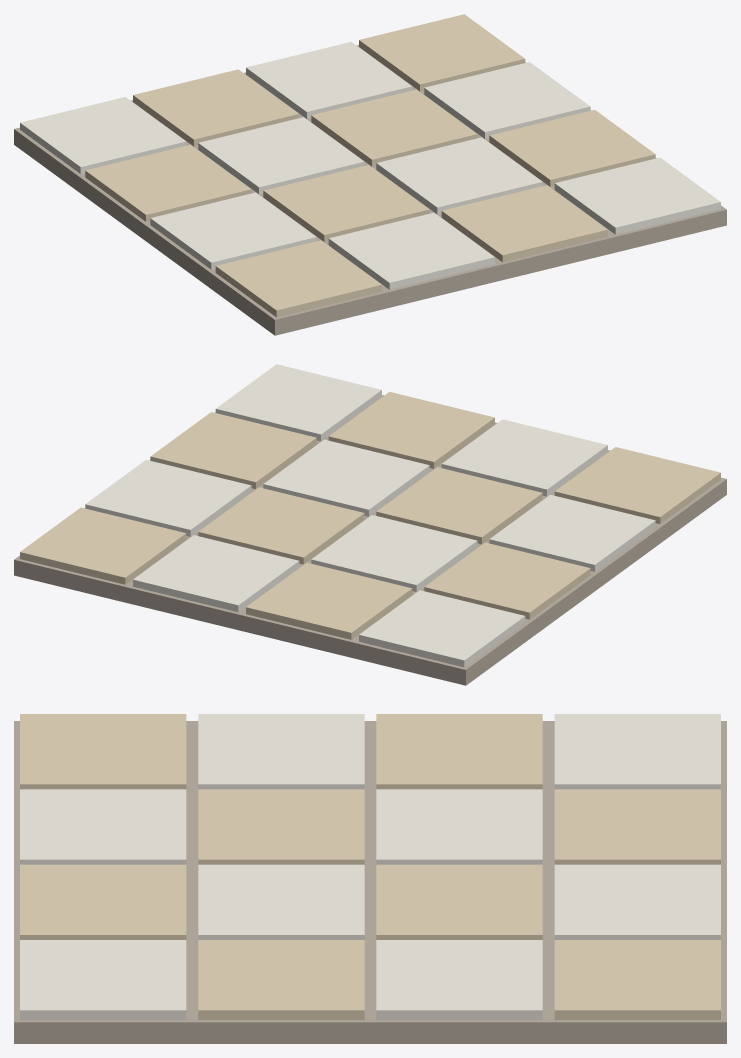
Rendered from courtyard-paving-m-d4922e1f.glb.
3 views of the same model, one above another, from view 1: azimuth 30°, elevation 25°; view 2: azimuth 150°, elevation 25°; view 3: azimuth 270°, elevation 25° (orthographic). The views are drawn at different scales.
Parts seen in each view (by area): view 1: courtyard-paving-module; view 2: courtyard-paving-module; view 3: courtyard-paving-module.
Part boxes in pixels (box(x1,y1,x2,y2)): courtyard-paving-module: box(14, 14, 726, 335); courtyard-paving-module: box(14, 364, 726, 685); courtyard-paving-module: box(14, 714, 726, 1043).
Bounding box in the file's own units: 3 × 0.1445 × 3.
